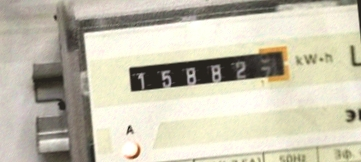1: (135, 70, 146, 89)
2: (234, 58, 248, 79)
5: (157, 68, 173, 88)
7: (258, 63, 271, 76)
8: (208, 61, 223, 83), (184, 64, 198, 85)
screen: (122, 43, 294, 99)
